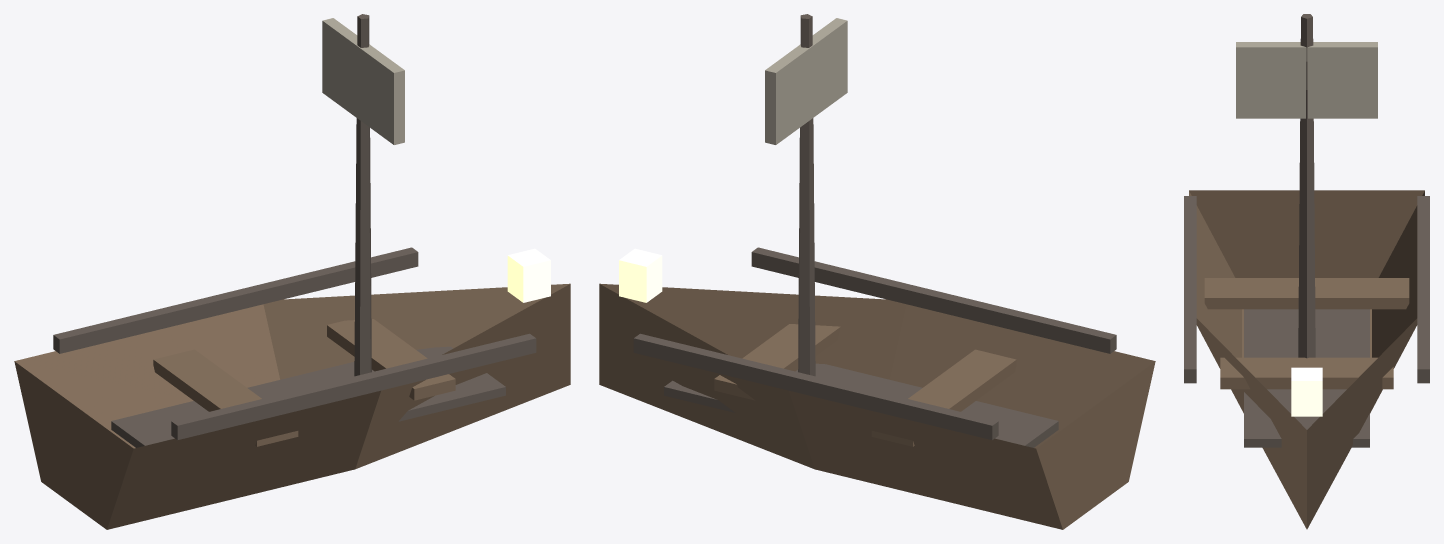
Rendered from boat.glb.
3 renders of one model, left to right at view 1: azimuth 30°, elevation 25°; view 2: azimuth 150°, elevation 25°; view 3: azimuth 270°, elevation 25°, orthographic.
Visible parts, largest first — view 1: boat; view 2: boat; view 3: boat.
Part boxes in pixels (<box>): boat: <box>14,14,570,529</box>; boat: <box>599,14,1155,529</box>; boat: <box>1184,14,1429,529</box>.
Size of the model in its own units: 3.6 by 2.9 by 1.56.
